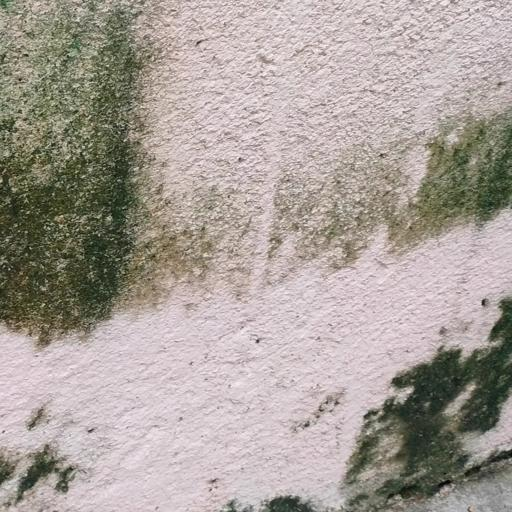algae: (0, 0, 228, 354)
